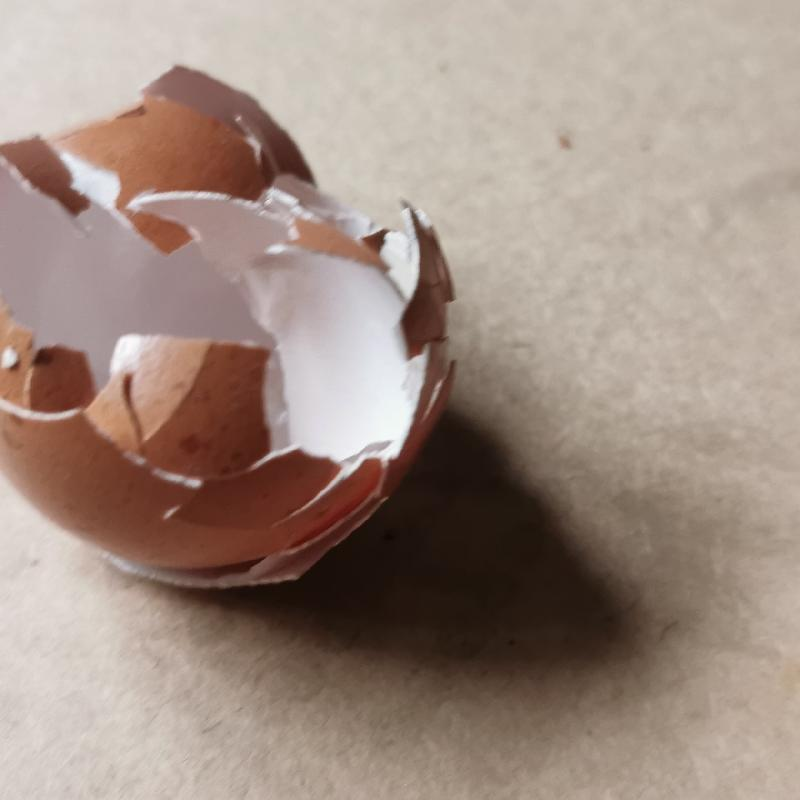eggshell: (5, 65, 458, 603)
